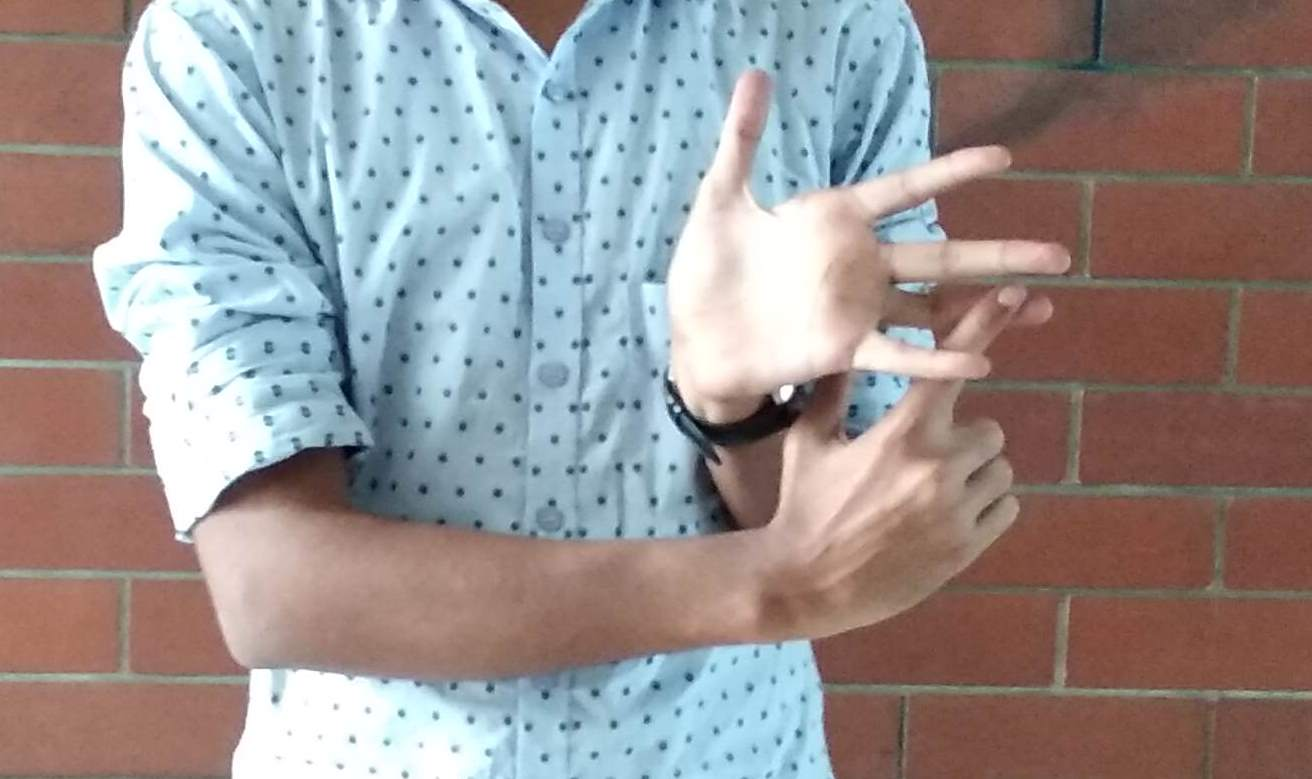e: (701, 135, 1061, 485)
